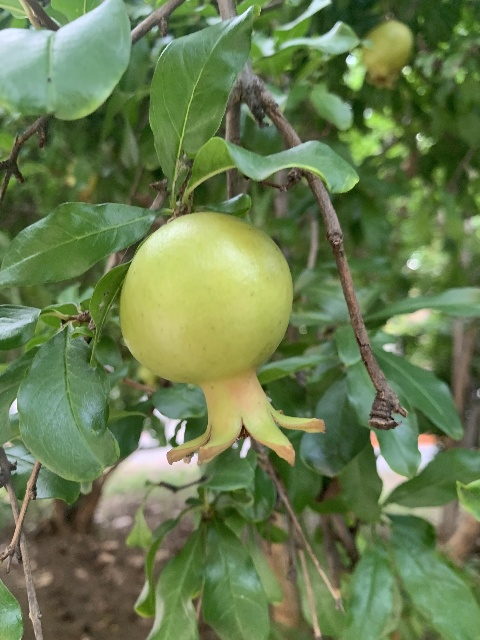mid-growth: (118, 210, 326, 472), (360, 20, 413, 90)
